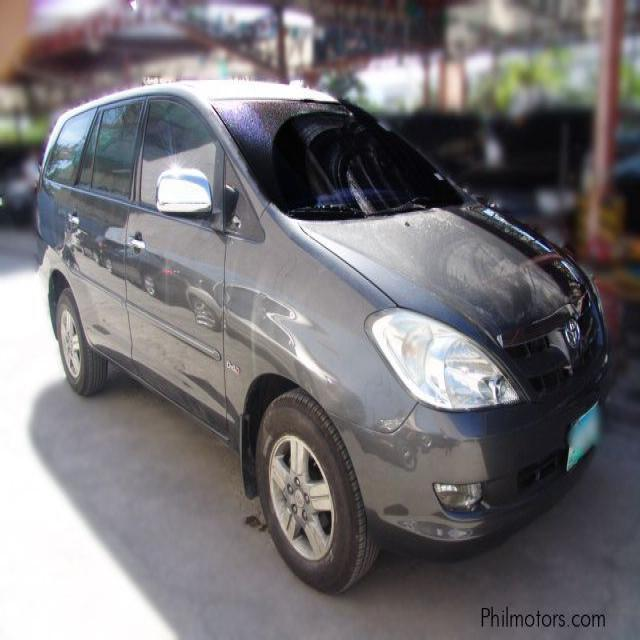light_vehicle: (35, 79, 611, 596)
